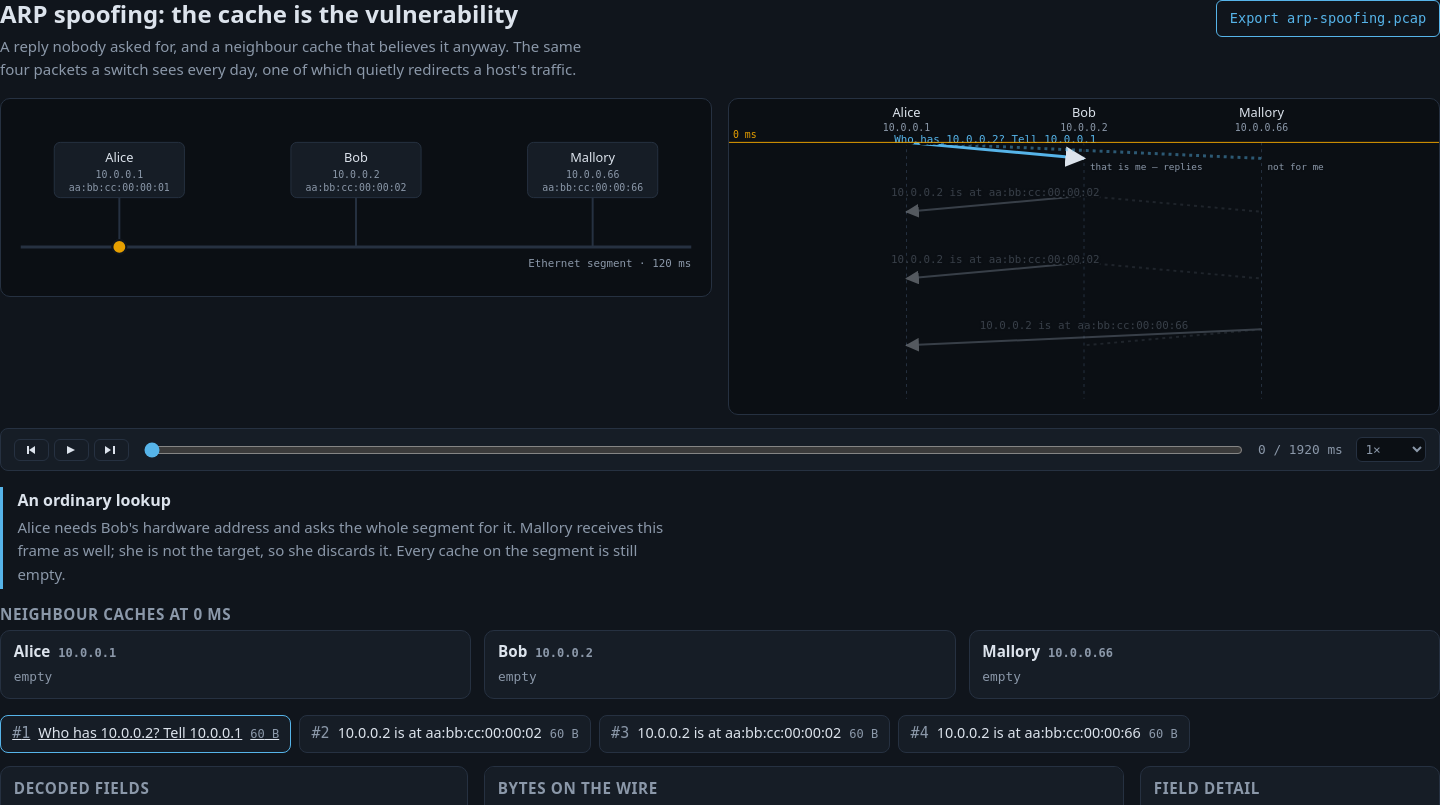
Scenario: the spoofing lesson › fills Alice's cache with Bob's real address, then lets it be overwritten
Set the slider named "Timeline position in milliseconds" to "600": (490, 450) [144, 442, 1243, 458]
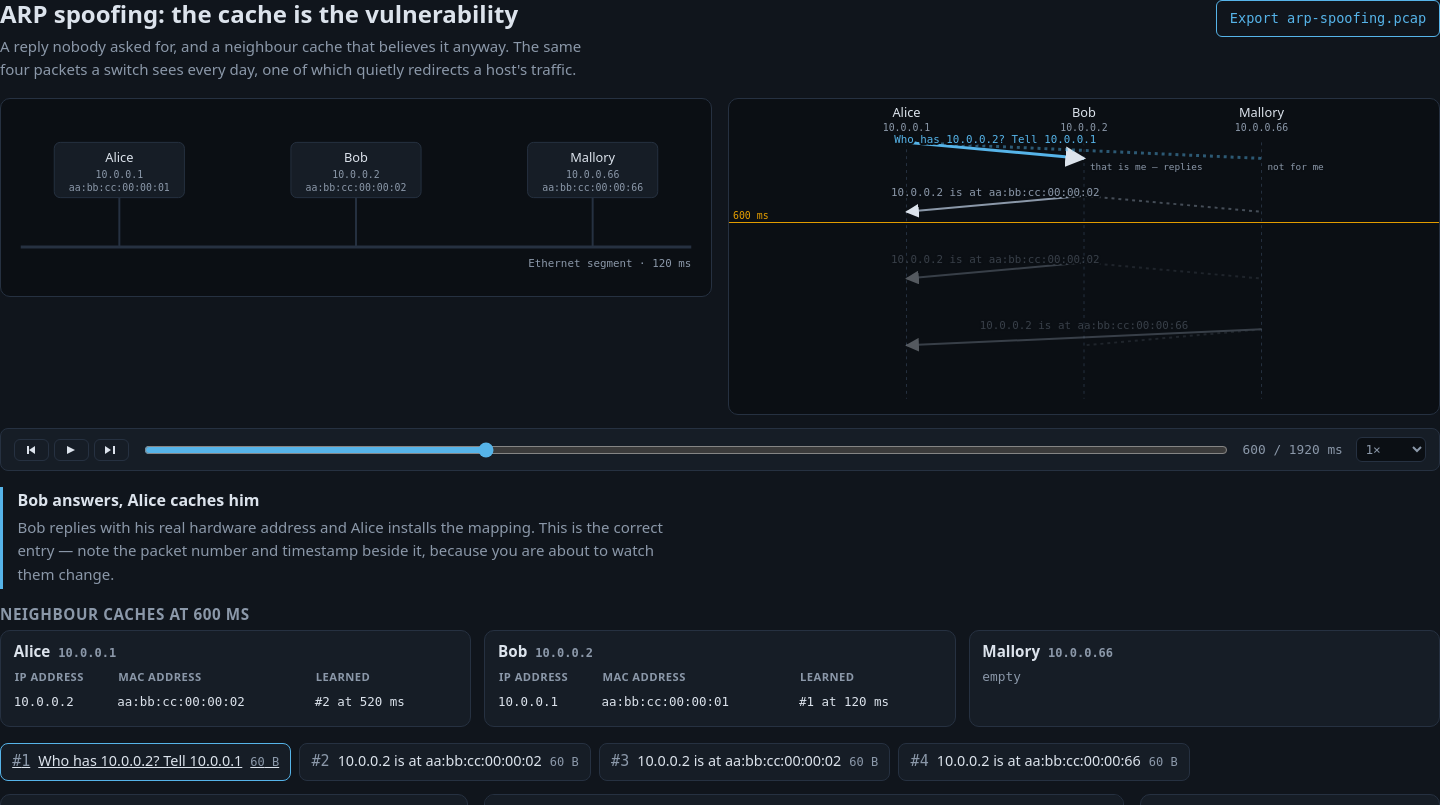
Check: the element named "Alice ARP cache" shows "aa:bb:cc:00:00:02", box [117, 694, 245, 709]
Set the slider named "Timeline position in milliseconds" to "1600": (1042, 450) [144, 442, 1228, 458]
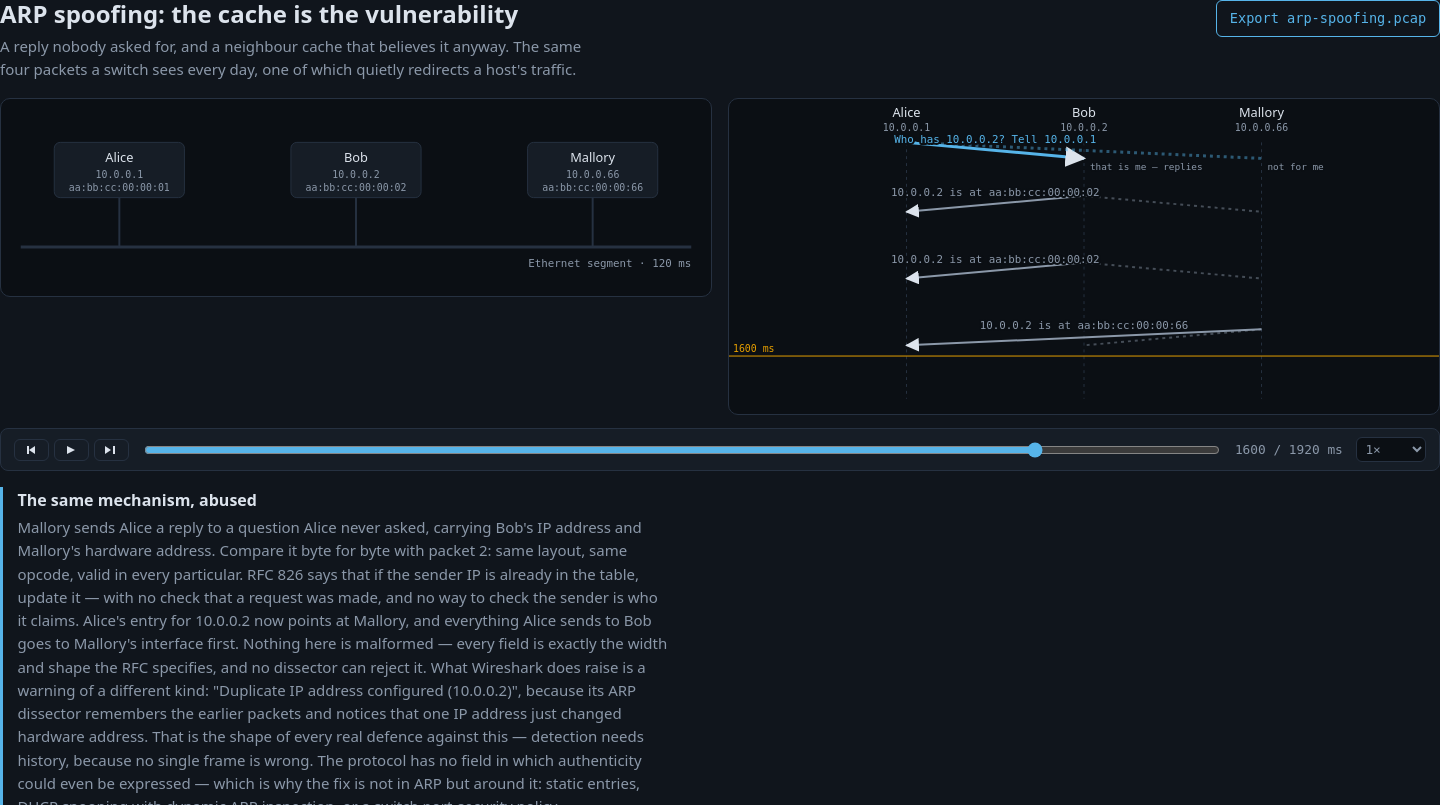
Set the slider named "Timeline position in milliseconds" to "600": (483, 450) [144, 442, 1220, 458]
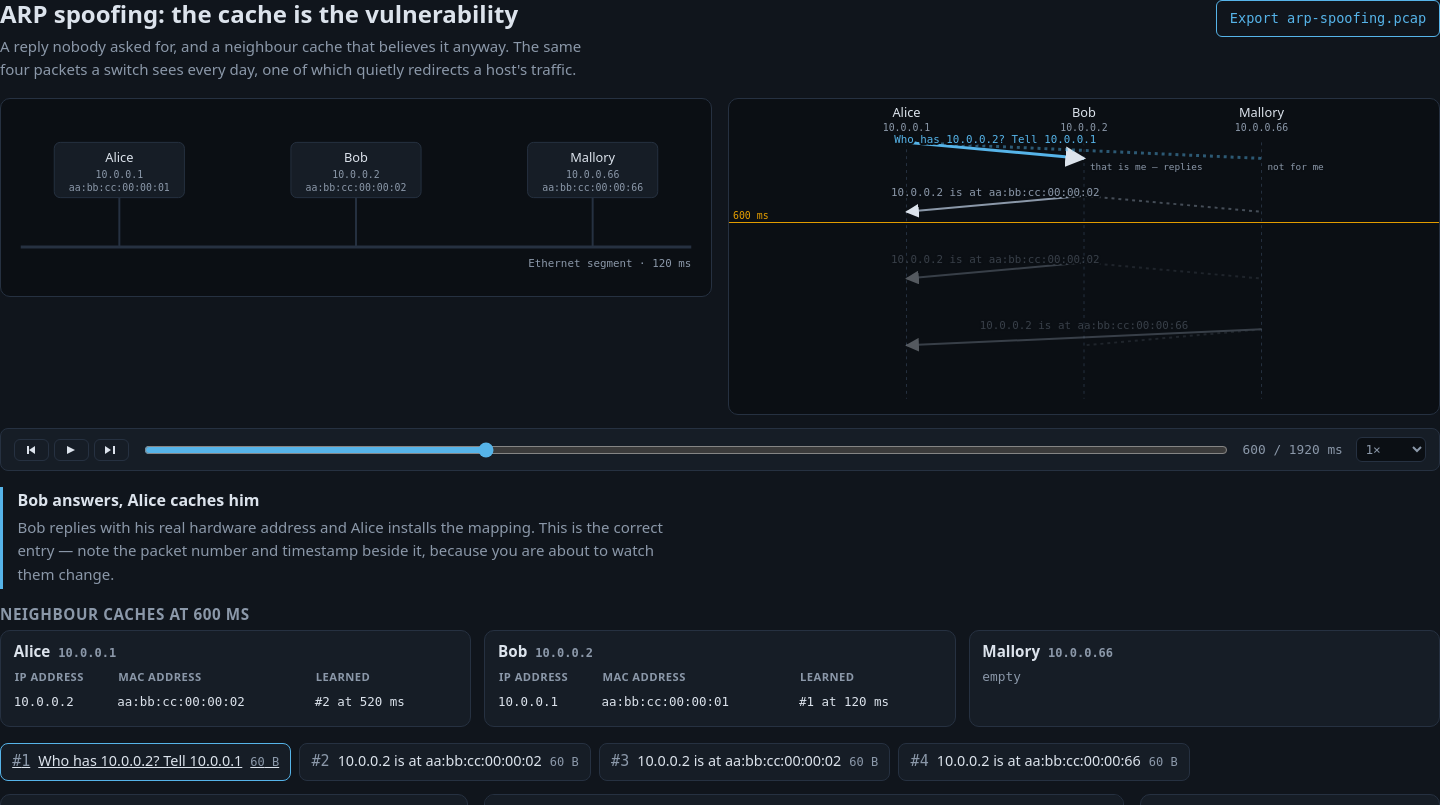
Check: the element named "Alice ARP cache" shows "aa:bb:cc:00:00:02", box [117, 694, 245, 709]
